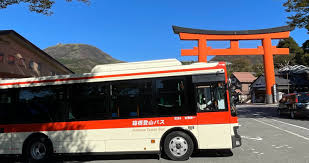bus: (1, 59, 241, 160)
